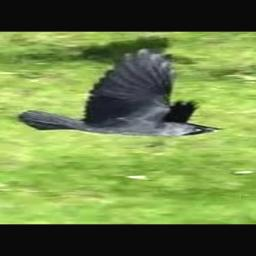Crow: (16, 47, 223, 138)
